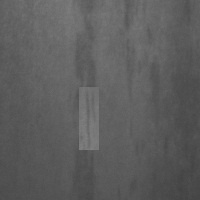inclusion: (66, 5, 98, 196), (113, 4, 144, 111), (142, 55, 167, 129), (79, 87, 99, 150)
